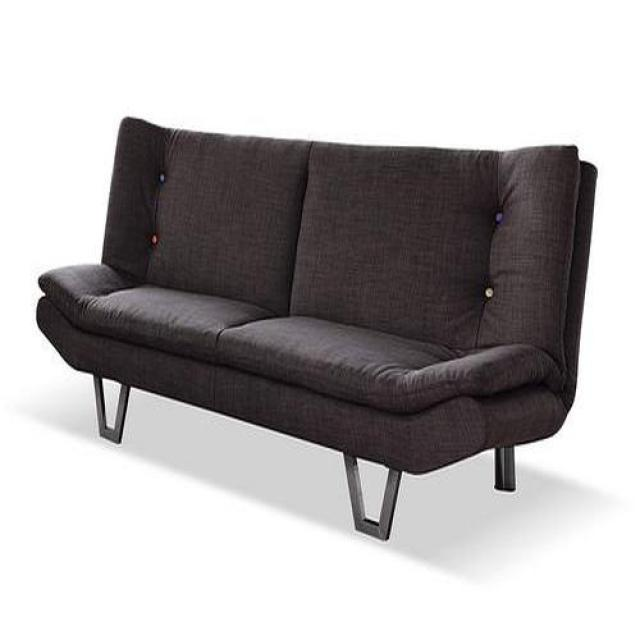sofa: (35, 118, 599, 541)
